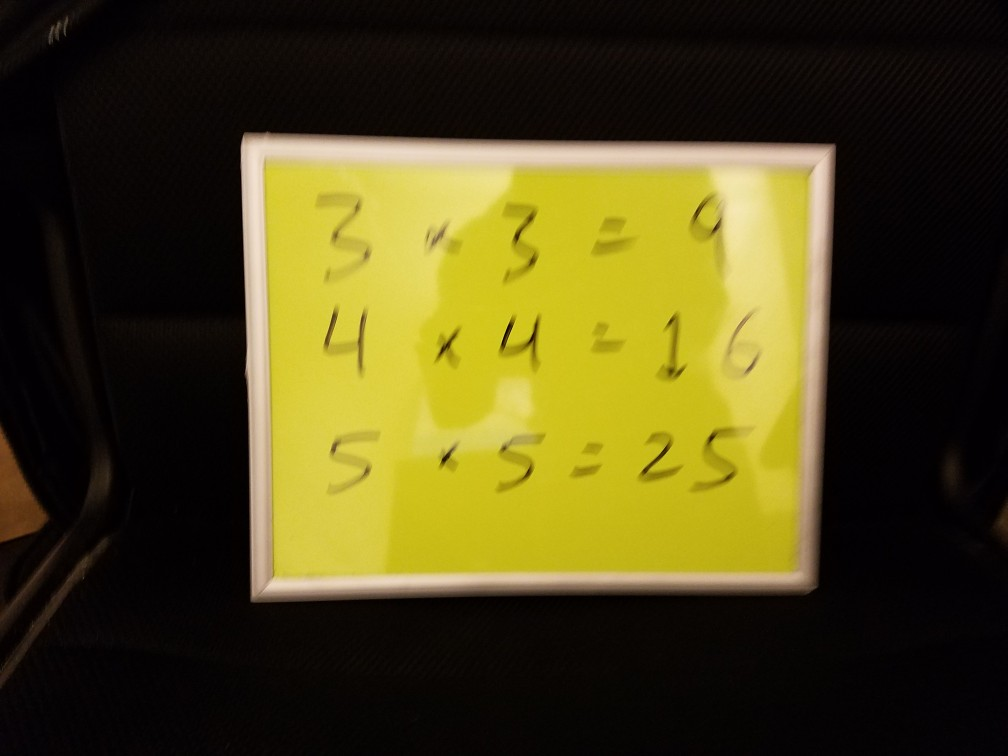1: (652, 304, 695, 386)
2: (634, 426, 680, 489)
3: (304, 182, 377, 285), (493, 188, 545, 293)
4: (318, 303, 375, 376), (499, 312, 547, 376)
5: (692, 417, 756, 503), (317, 421, 385, 500), (489, 423, 551, 500)
6: (718, 304, 769, 383)
9: (689, 182, 735, 280)
=: (583, 201, 646, 260), (582, 311, 633, 362), (571, 429, 615, 486)
x: (413, 215, 464, 262), (427, 430, 469, 475), (428, 327, 466, 370)
